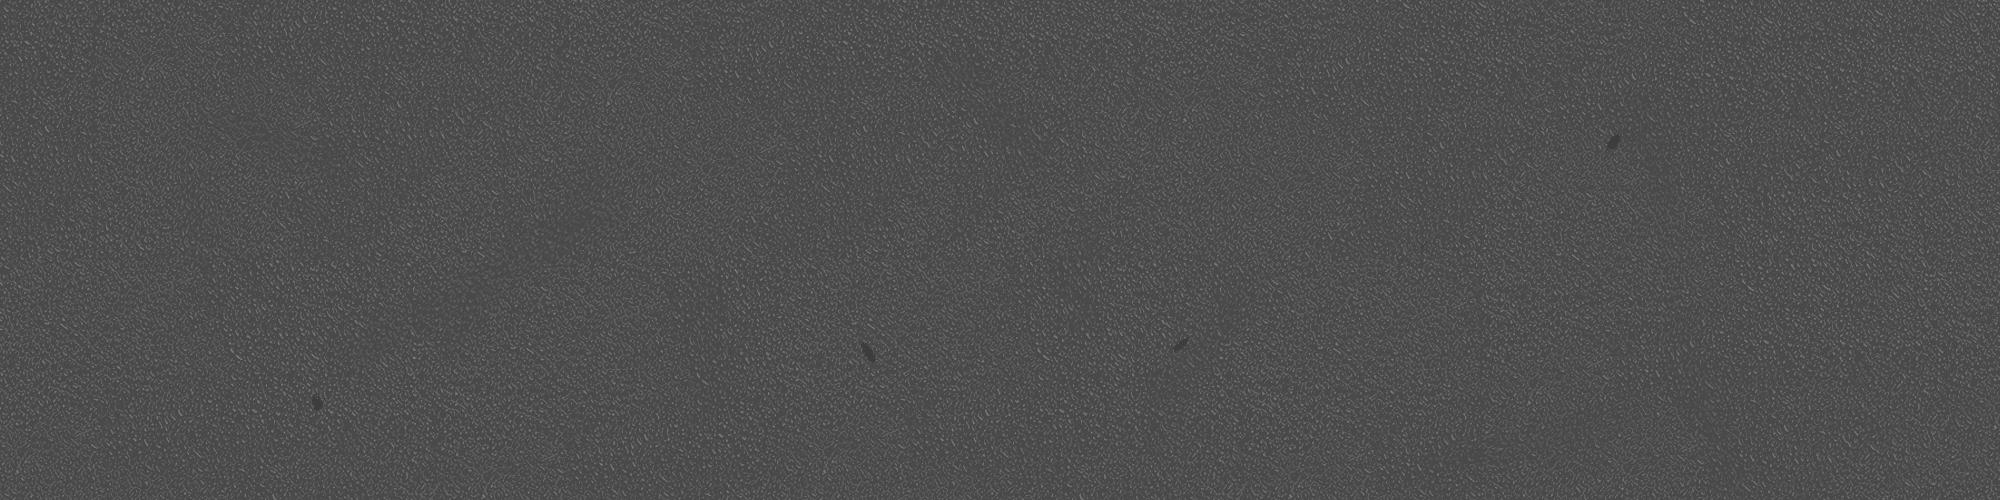Decomposed: (852, 341, 884, 369), (1161, 329, 1191, 356), (302, 389, 332, 412), (1605, 130, 1626, 156)
